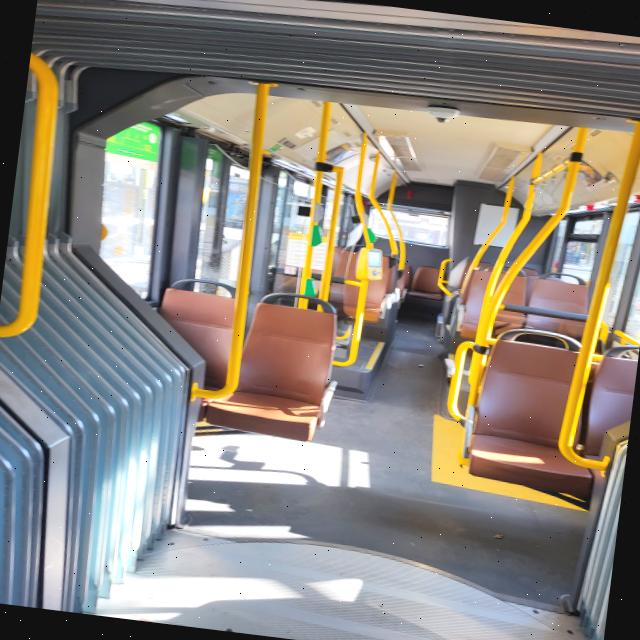empty-seat-frontal: (466, 318, 612, 503), (202, 284, 348, 448), (461, 259, 531, 344)
